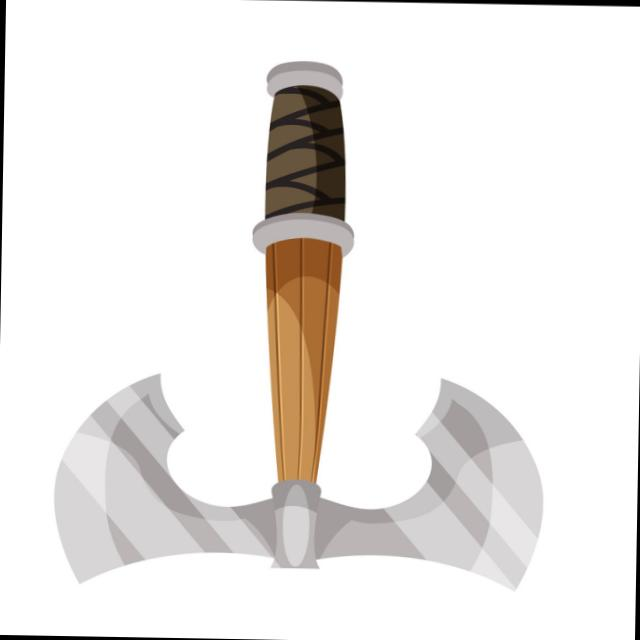Gun: (41, 44, 594, 616)
